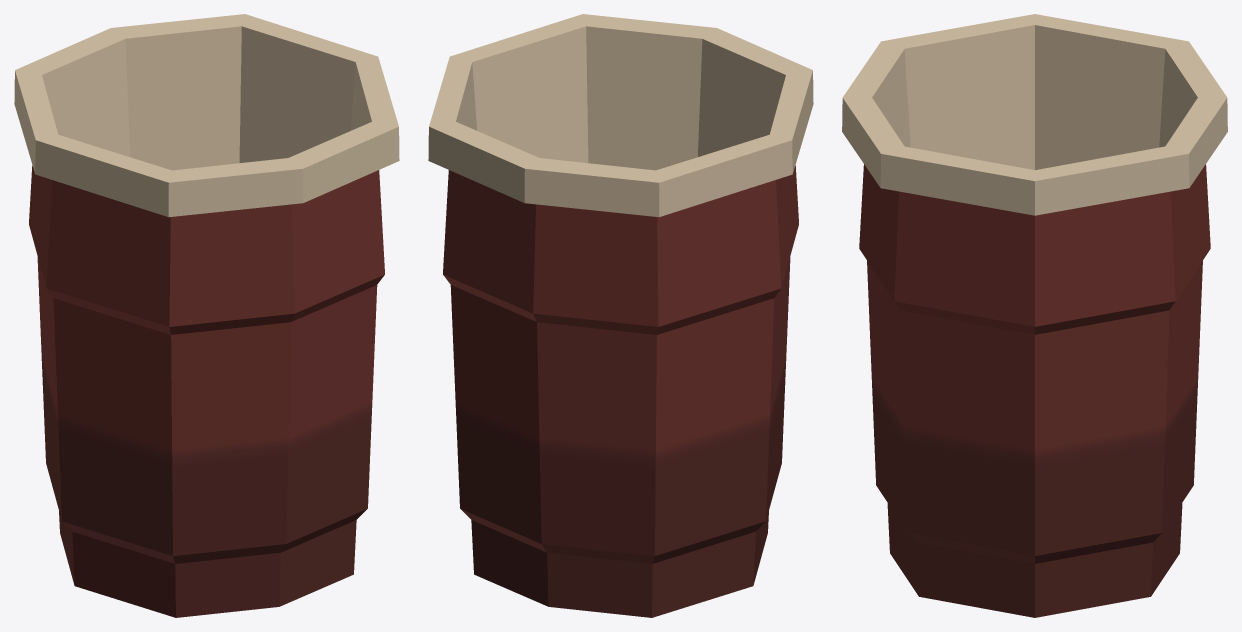
Rendered from SM_Item_BeerCup_01.obj.
3 renders of one model, left to right at view 1: azimuth 30°, elevation 25°; view 2: azimuth 150°, elevation 25°; view 3: azimuth 270°, elevation 25°, orthographic.
Visible parts, largest first — view 1: SM_Item_BeerCup_01_0; view 2: SM_Item_BeerCup_01_0; view 3: SM_Item_BeerCup_01_0.
Part boxes in pixels (x1,y1,x2,y2): SM_Item_BeerCup_01_0: [14, 14, 399, 617]; SM_Item_BeerCup_01_0: [428, 14, 813, 617]; SM_Item_BeerCup_01_0: [842, 14, 1227, 617].
Bounding box in the file's own units: 0.1506 × 0.1909 × 0.1465.
Materials: 1 (1 with a texture image).
